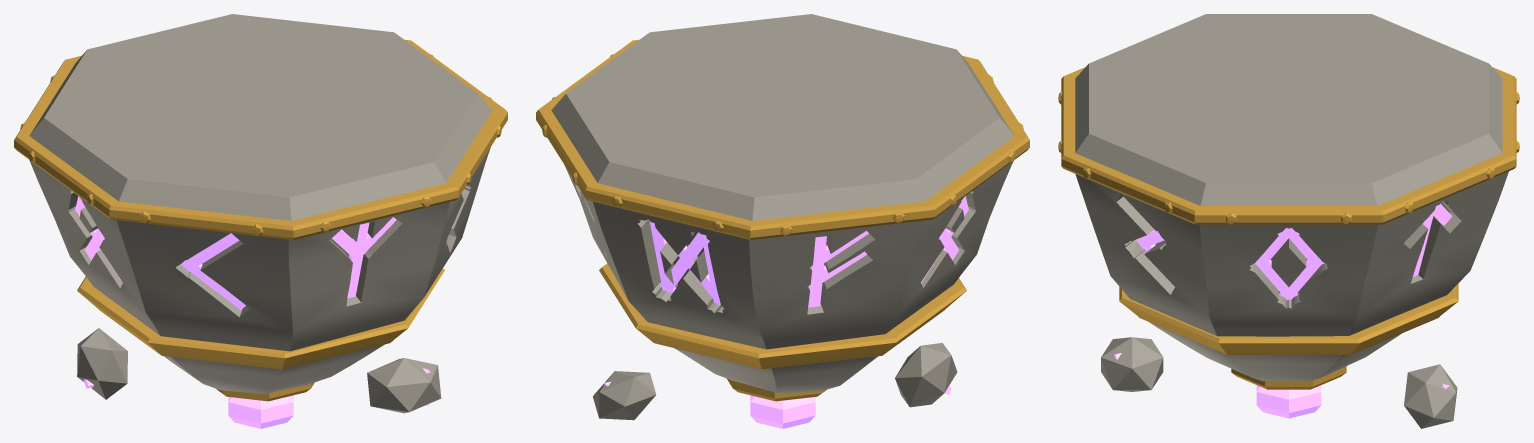
Rendered from part_hover_stone.glb.
3 views of the same model, side by side, from view 1: azimuth 30°, elevation 25°; view 2: azimuth 150°, elevation 25°; view 3: azimuth 270°, elevation 25° (orthographic).
Parts seen in each view (by area): view 1: HoverStone; view 2: HoverStone; view 3: HoverStone.
Part boxes in pixels (x1,y1,x2,y2): HoverStone: (14,14,507,428); HoverStone: (536,14,1029,428); HoverStone: (1058,14,1519,428).
Size of the model in its own units: 0.8 by 0.6 by 0.8.
